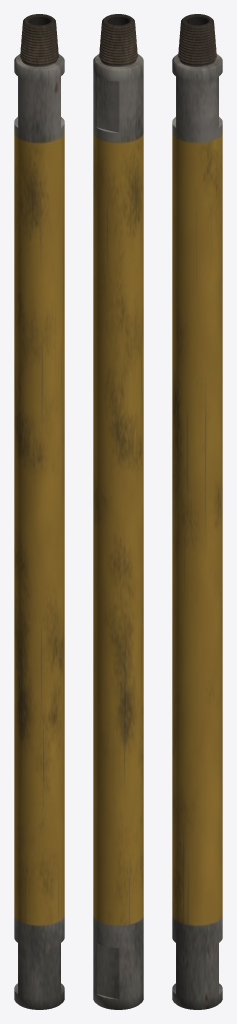
File: SM_Tige_6pi_Jaune.glb
3 views of the same model, side by side, from view 1: azimuth 90°, elevation 25°; view 2: azimuth 150°, elevation 25°; view 3: azimuth 270°, elevation 25° (orthographic).
Parts seen in each view (by area): view 1: Tige_6pi_Jaune; view 2: Tige_6pi_Jaune; view 3: Tige_6pi_Jaune.
Boxes of the visible parts, bbox=[...] form: Tige_6pi_Jaune: bbox=[14, 14, 64, 1009]; Tige_6pi_Jaune: bbox=[93, 14, 143, 1009]; Tige_6pi_Jaune: bbox=[172, 14, 222, 1009].
Bounding box in the file's own units: 0.0889 × 1.9 × 0.0889.
1 material, 1 textured.
